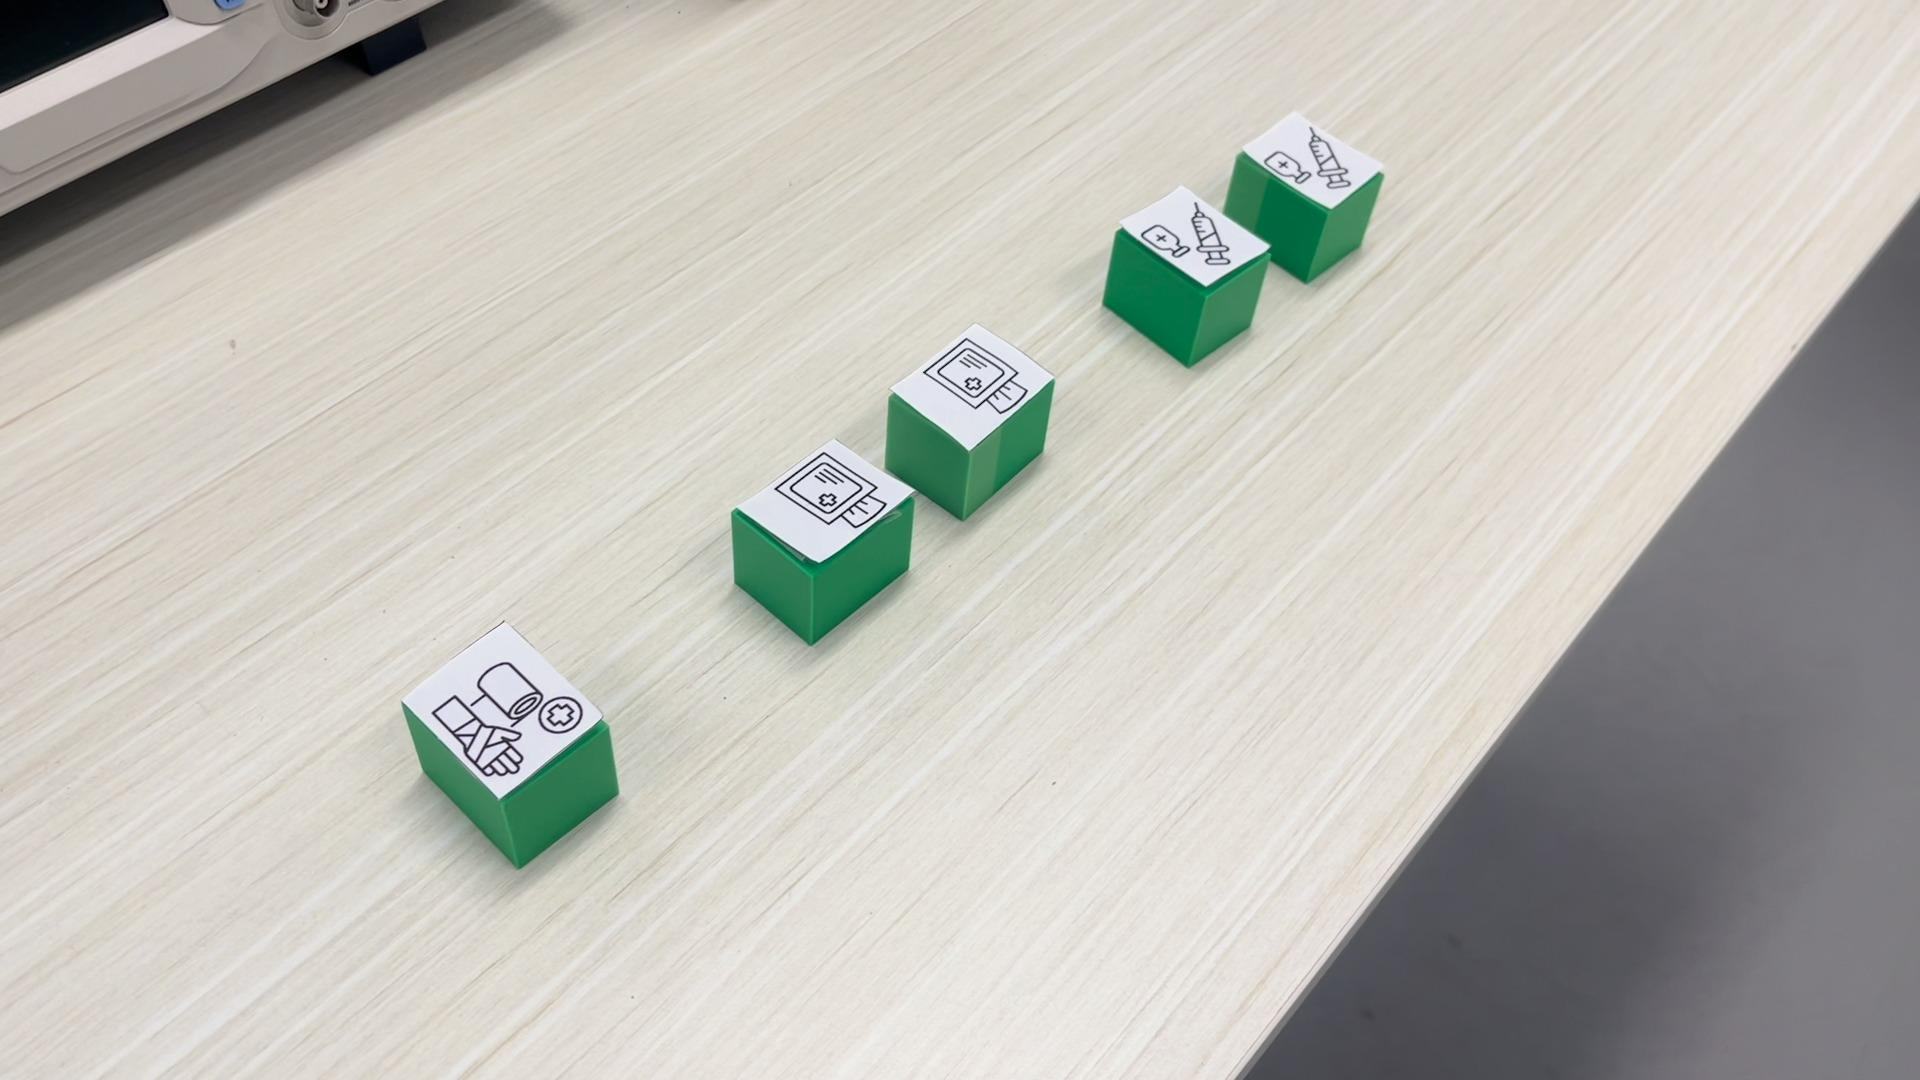Bandages: (396, 620, 618, 868)
Gauze: (728, 436, 911, 645), (886, 320, 1056, 518)
antiseptic cream: (1101, 185, 1274, 364), (1222, 108, 1389, 284)
